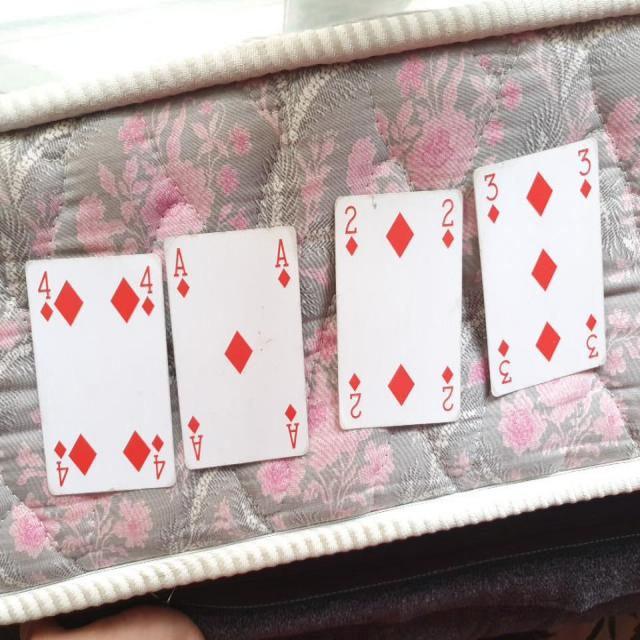2 Diamonds: (326, 196, 474, 440)
3 Diamonds: (470, 132, 607, 401)
4 Diamonds: (21, 252, 180, 504)
A Diamonds: (157, 218, 316, 466)
